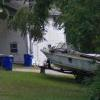Boat: (37, 32, 100, 74)
